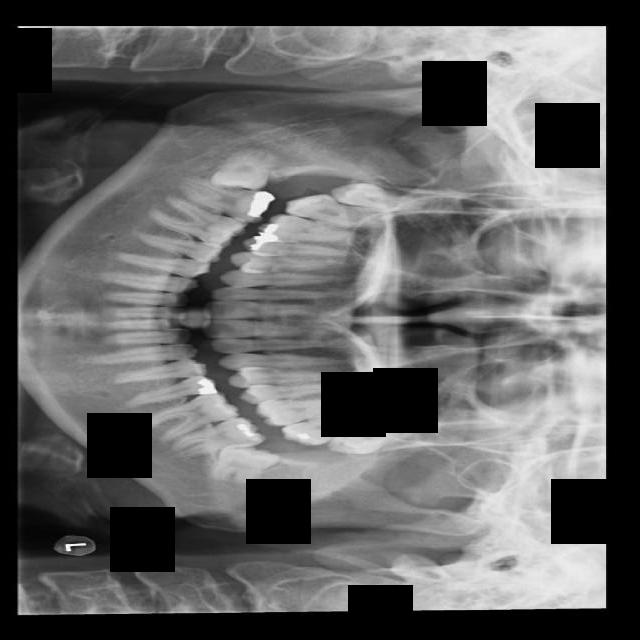3M ESPE Implant: (329, 178, 430, 216)
52: (216, 406, 267, 458), (254, 207, 314, 250), (227, 180, 275, 231), (278, 418, 331, 450), (242, 234, 286, 258), (181, 373, 217, 397)
73: (26, 622, 36, 630)
BioHorizons Implant: (278, 405, 383, 453)
BioLife Implant: (326, 421, 419, 461)
Biomet 3i Implant: (210, 438, 281, 493)
Blue Sky Bio Implant: (166, 412, 266, 462)
Caries: (282, 187, 392, 236)
Implant: (171, 175, 274, 227)
Keystone Dental Implant: (208, 144, 273, 193)
